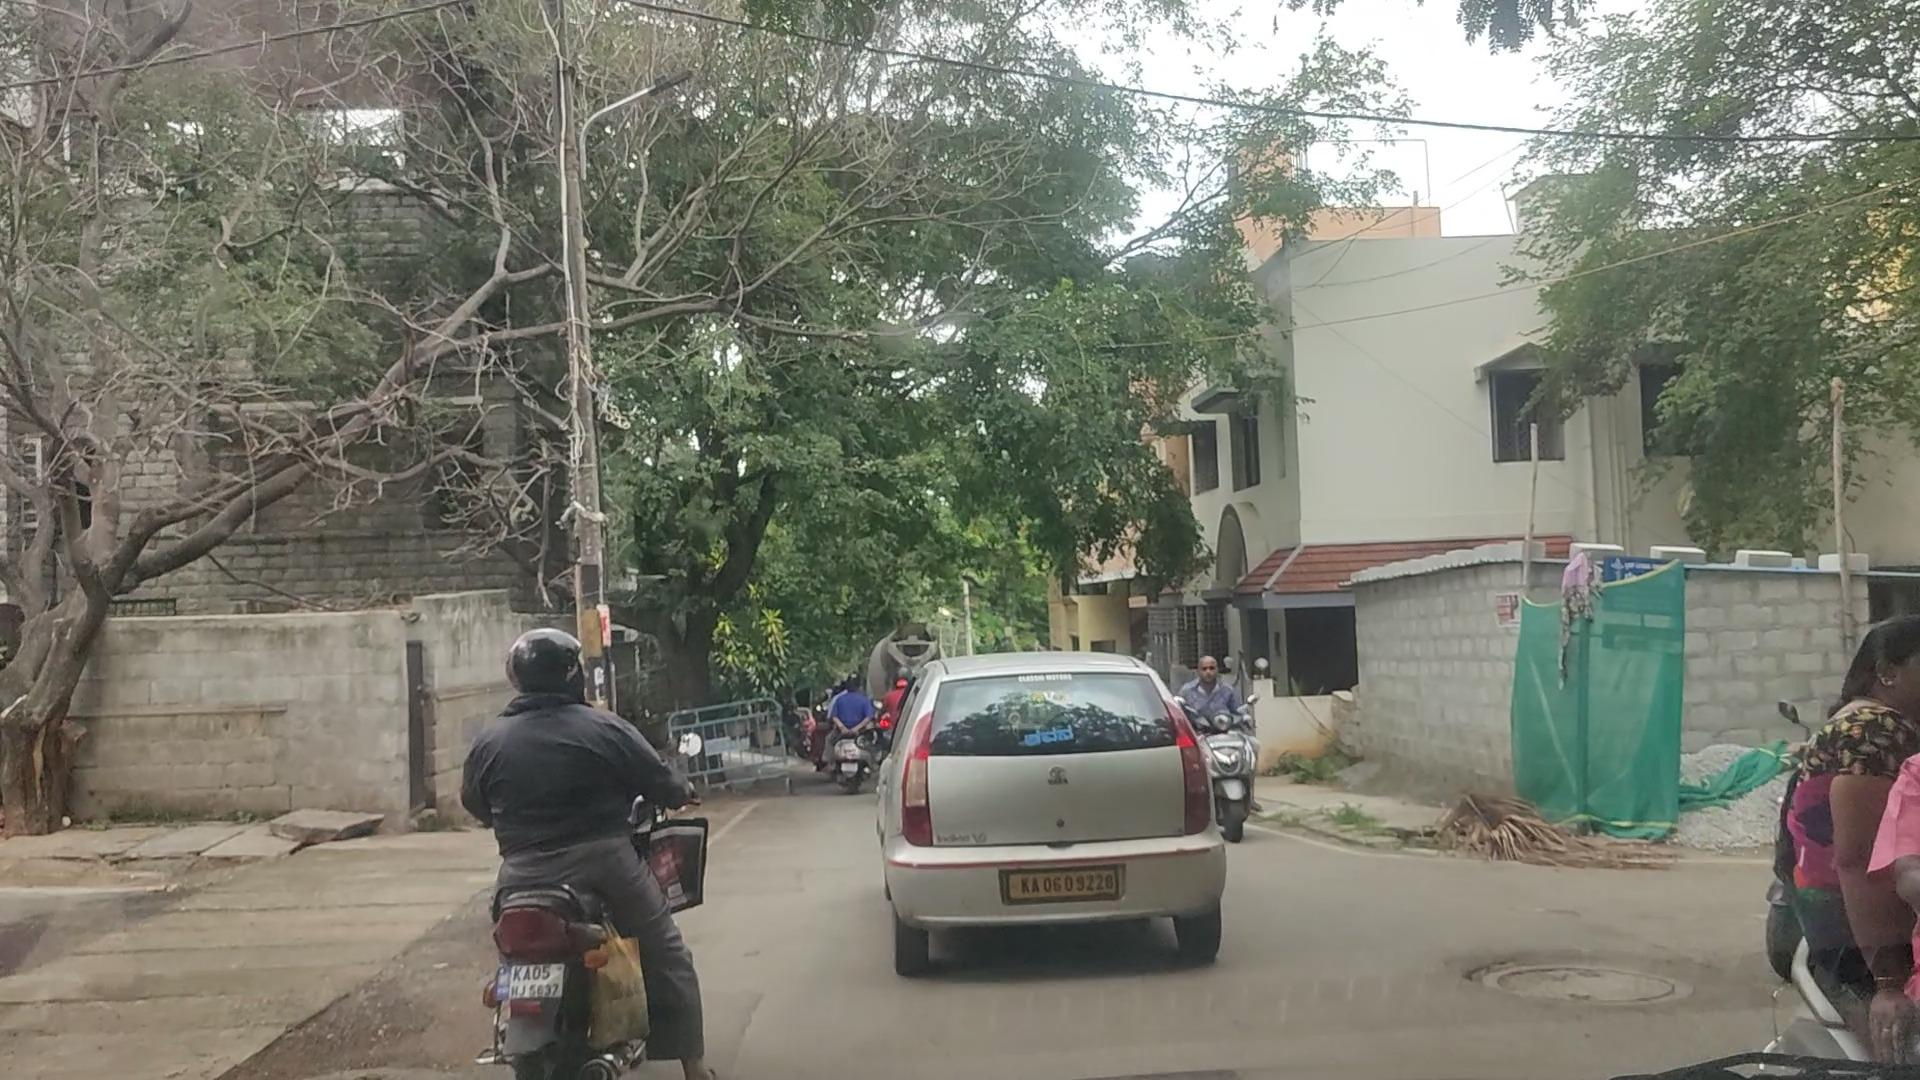LMV: (438, 632, 702, 1080), (878, 665, 1213, 976)
RoadDamages: (1457, 881, 1720, 1050)
